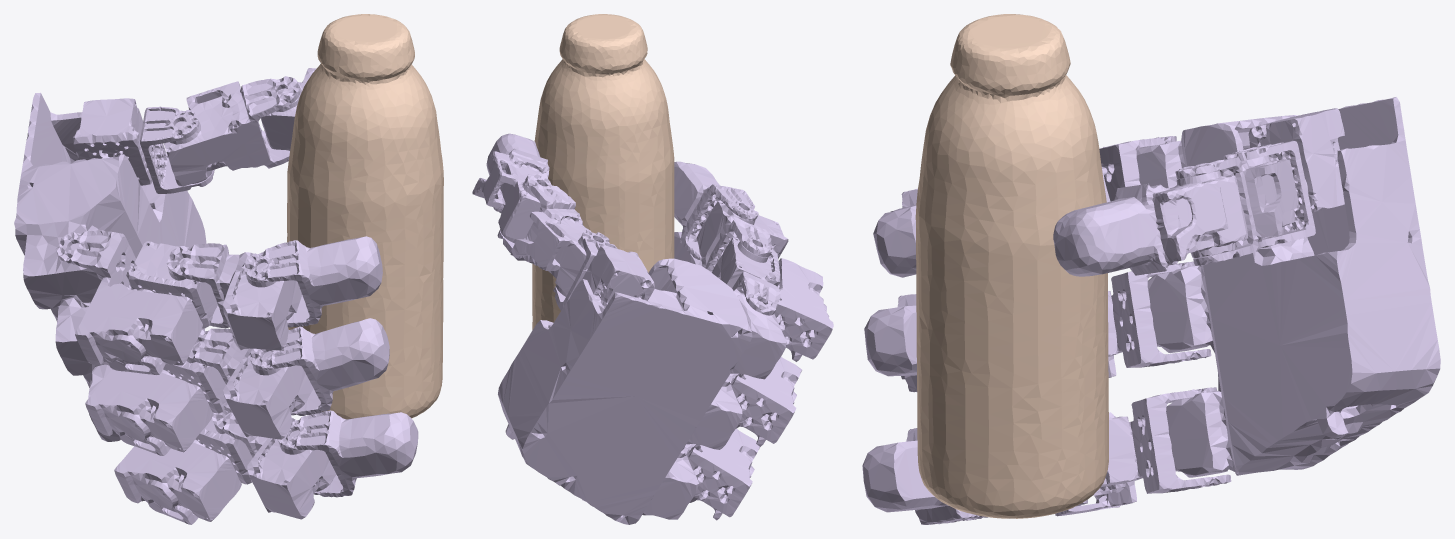
File: 87eaa4fd585048-closed.glb
The picture shows the model from 3 angles, left to right: view 1: azimuth 30°, elevation 25°; view 2: azimuth 150°, elevation 25°; view 3: azimuth 270°, elevation 25°; orthographic projection. The views are drawn at different scales.
Visible parts, largest first — view 1: LEAP_hand, world; view 2: LEAP_hand, world; view 3: LEAP_hand, world.
Boxes of the visible parts, x1,y1,x2,y2 form: LEAP_hand: (14,68,418,524); world: (287,14,443,419); LEAP_hand: (472,133,833,524); world: (532,14,674,329); LEAP_hand: (862,97,1440,524); world: (915,14,1108,518).
Bounding box in the file's own units: 0.1832 × 0.2271 × 0.206.
